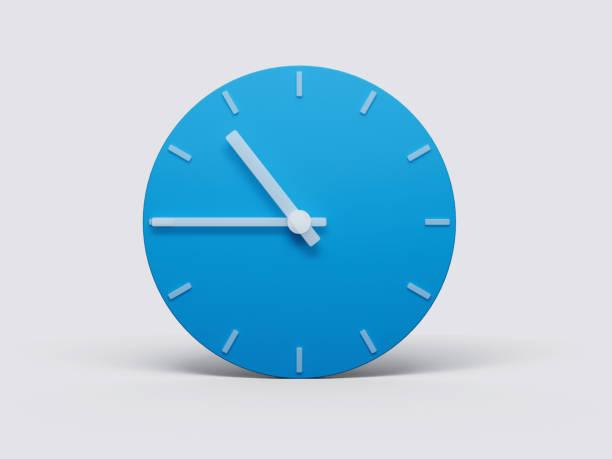clock: (97, 63, 491, 408)
